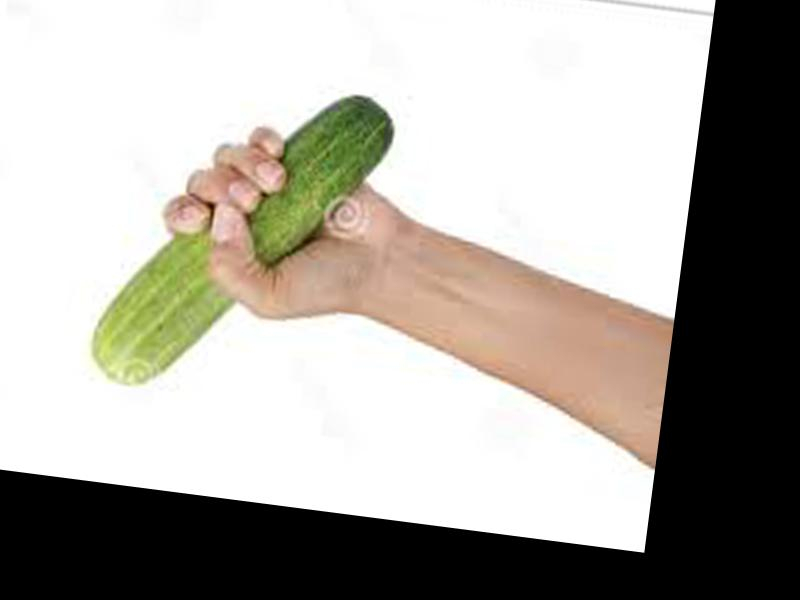Cucumber: (88, 65, 404, 412)
